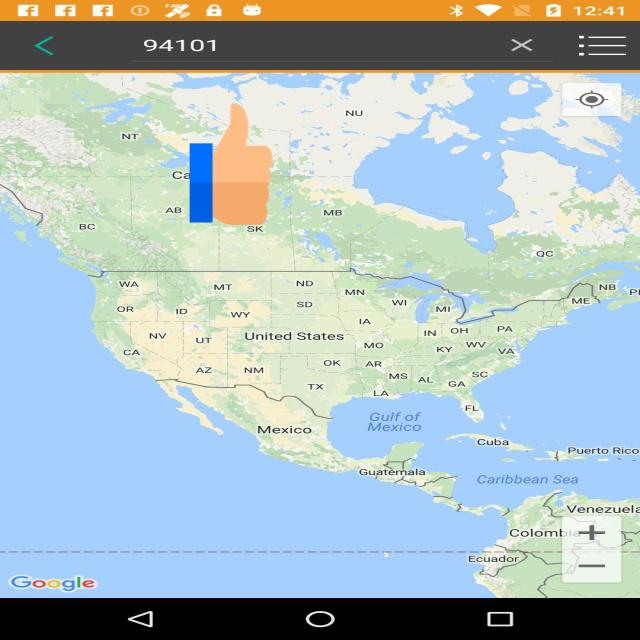privacy zuckering: (190, 100, 272, 228)
